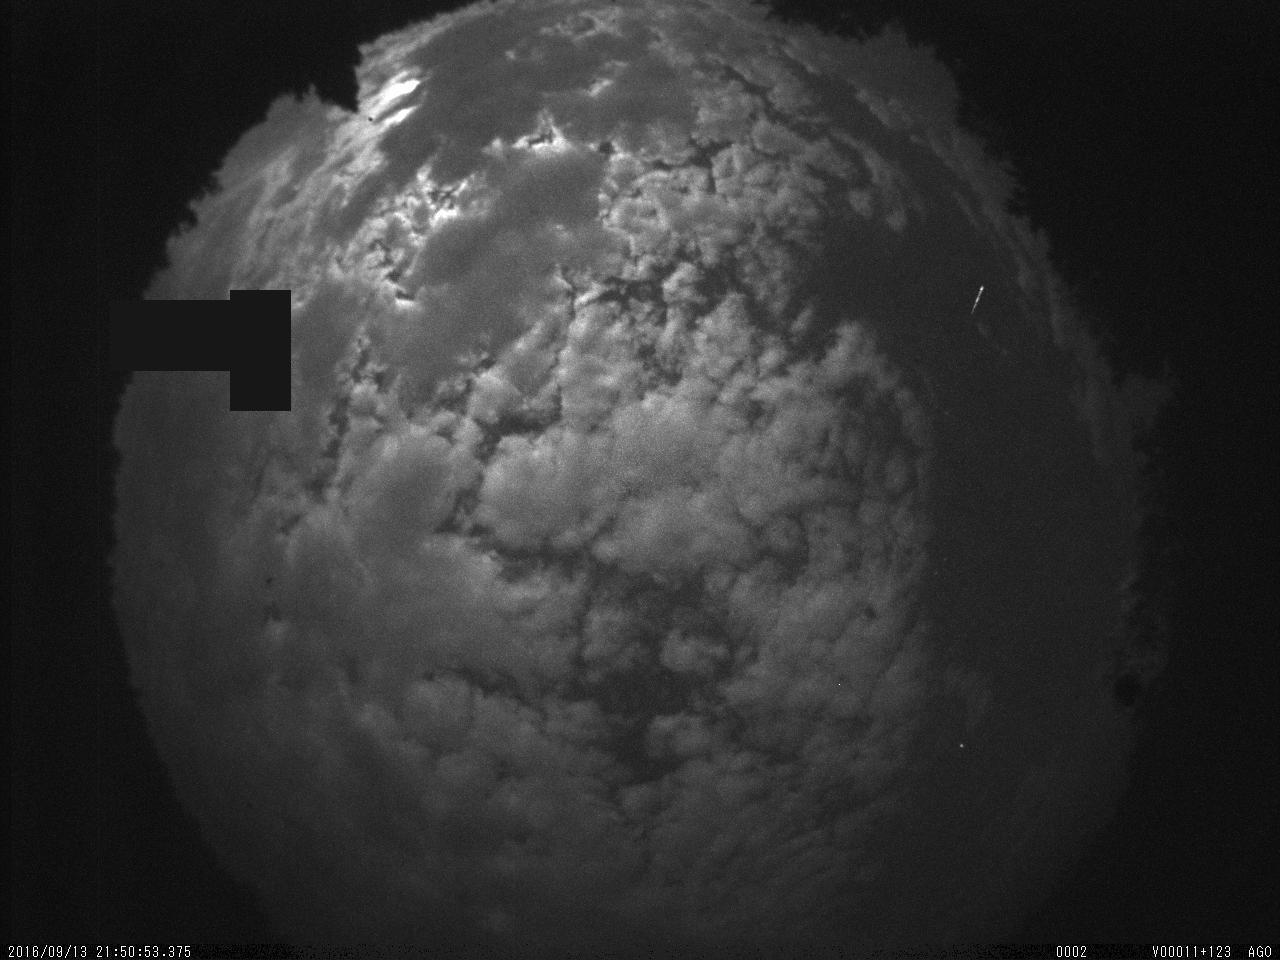meteor: (941, 274, 1011, 322)
